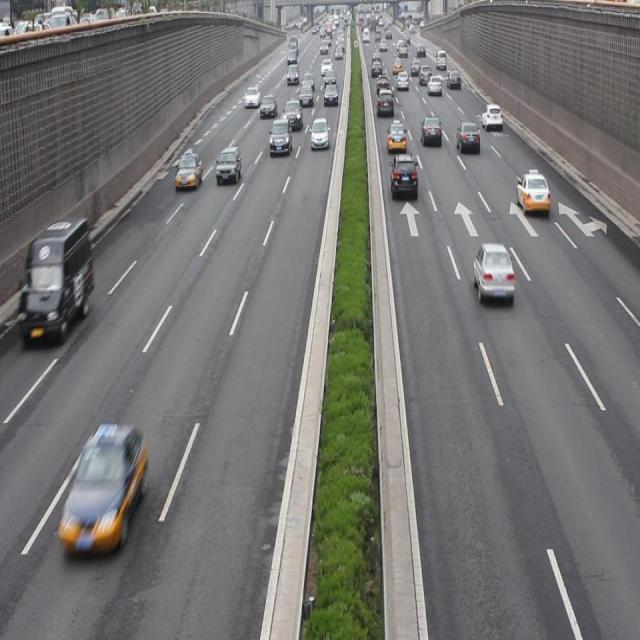car: (56, 423, 147, 554), (471, 240, 514, 300), (516, 170, 549, 214), (389, 152, 418, 200), (175, 150, 202, 190), (215, 146, 241, 183), (455, 120, 480, 155), (269, 119, 292, 155), (420, 114, 442, 148), (385, 118, 406, 152), (480, 100, 502, 132), (310, 118, 329, 150), (282, 100, 302, 130)
truck: (17, 215, 94, 343)
